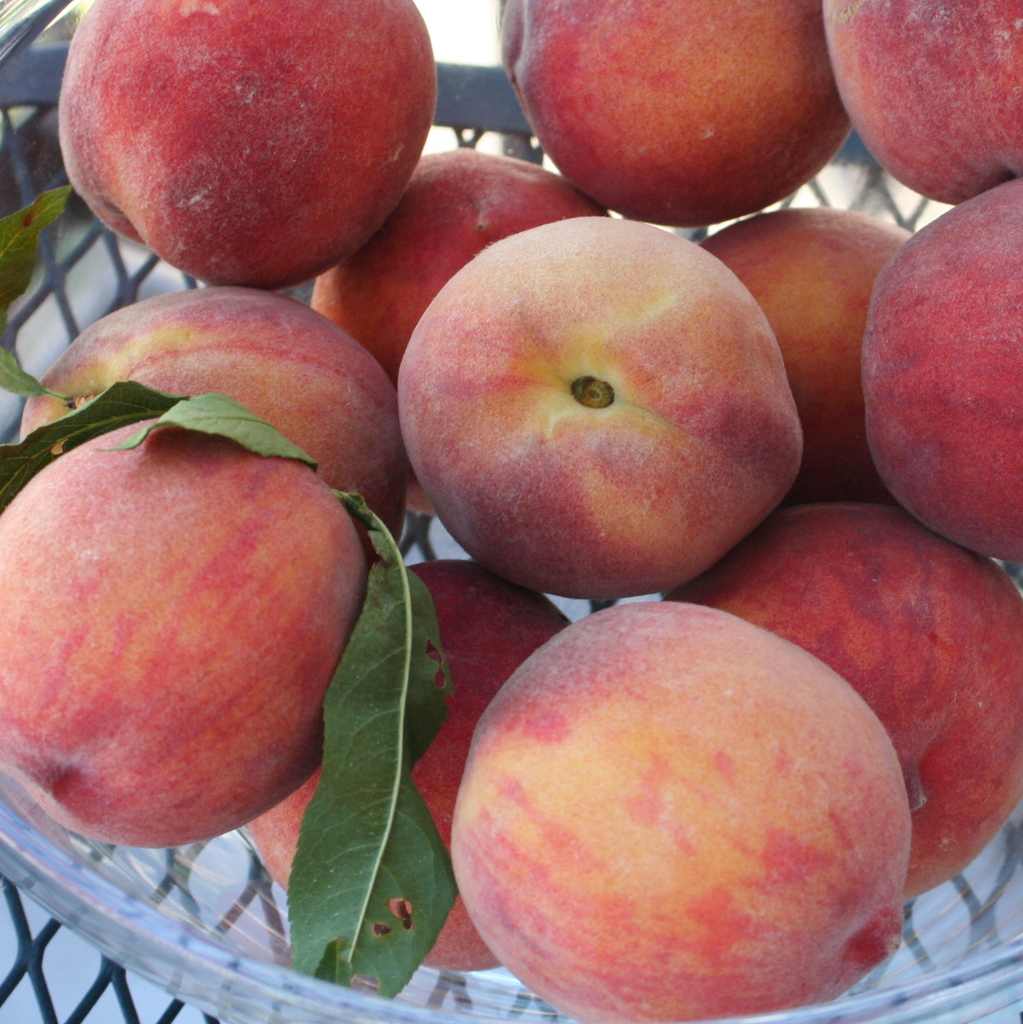Apple: (0, 0, 1022, 1023), (404, 213, 827, 593)
